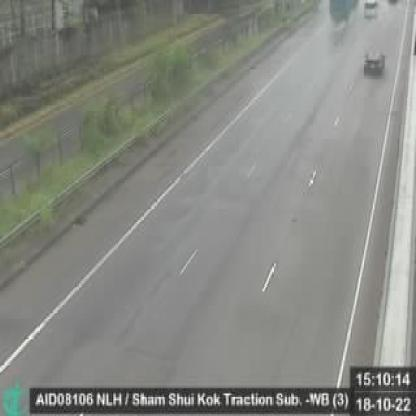Car: (362, 47, 386, 80), (363, 0, 380, 19)
